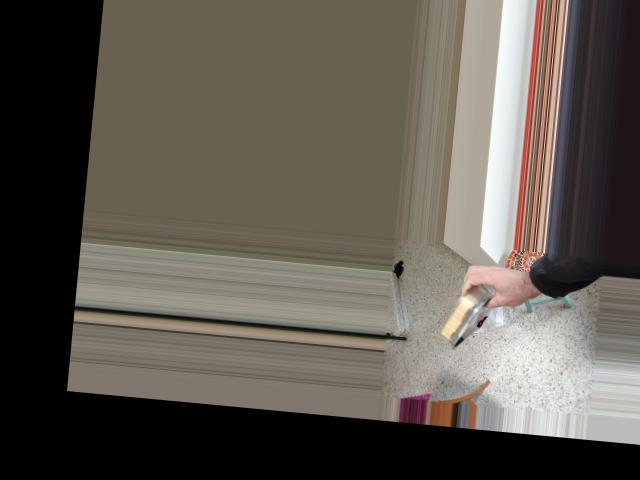cheese: (424, 248, 514, 357)
